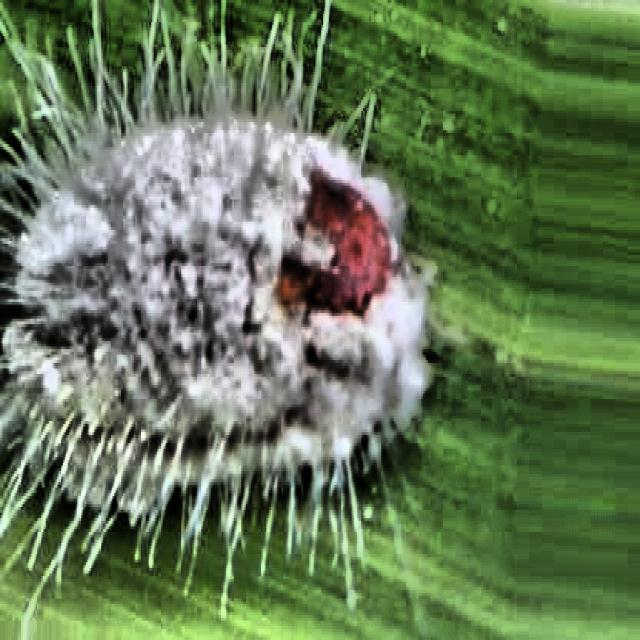Mealy-bug: (0, 4, 466, 619)
